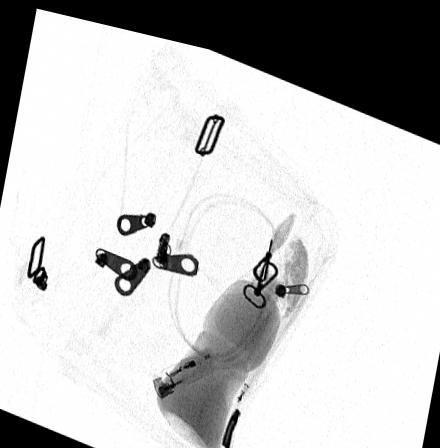Lighter: (152, 338, 215, 390)
